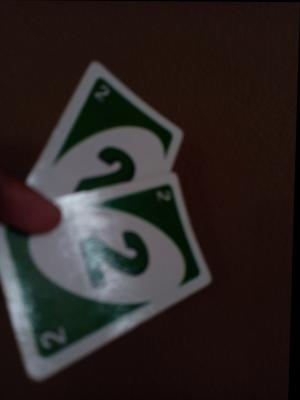green: (23, 237, 199, 308)
